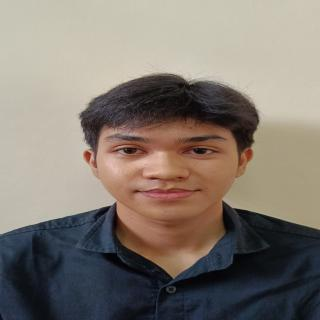Netral: (86, 102, 254, 227)
